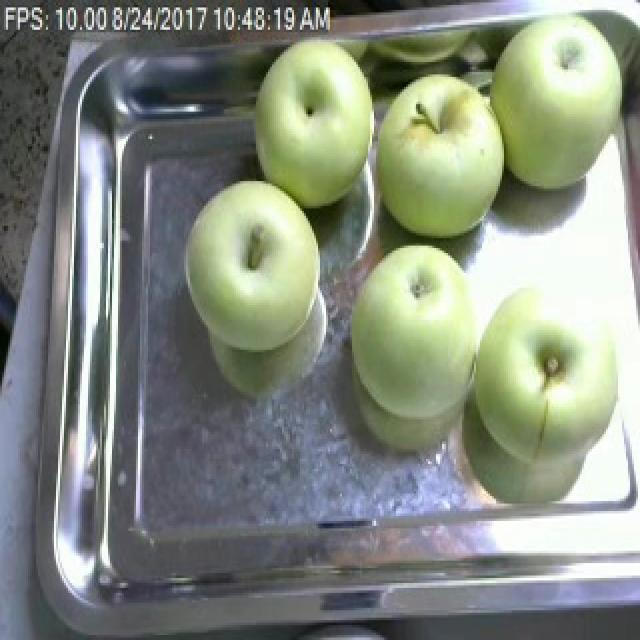50-_ripeness: (181, 177, 321, 348), (481, 287, 616, 455), (349, 252, 474, 418), (486, 20, 618, 171), (372, 80, 497, 238), (252, 33, 366, 201)
